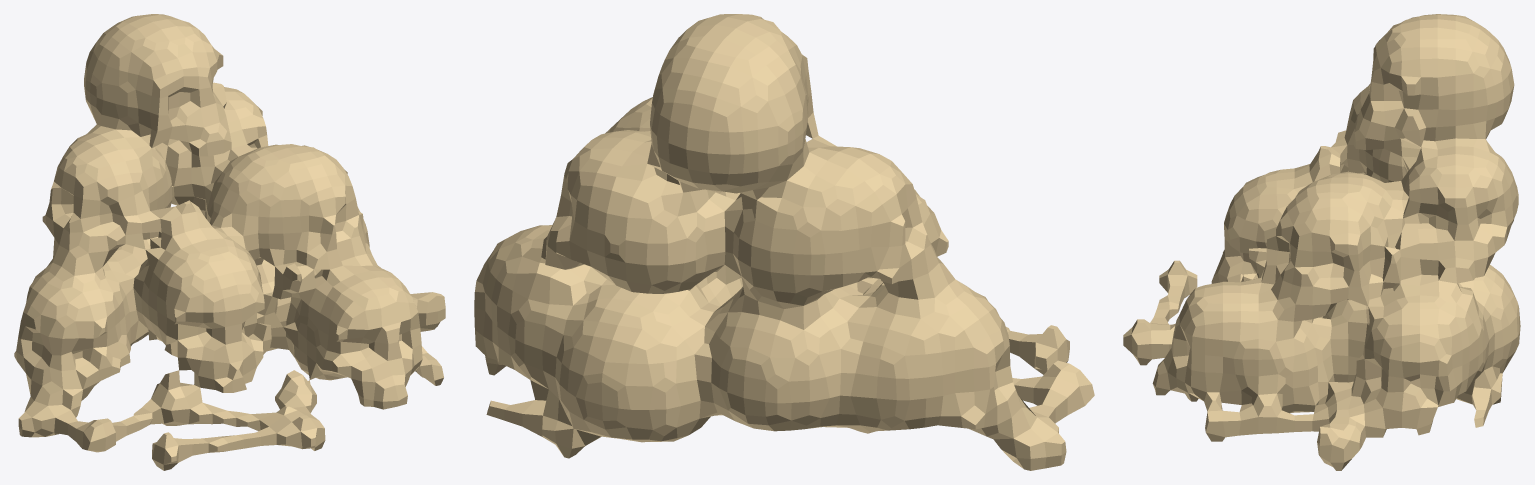
File: skull_pile.glb
3 renders of one model, left to right at view 1: azimuth 30°, elevation 25°; view 2: azimuth 150°, elevation 25°; view 3: azimuth 270°, elevation 25°, orthographic. The views are drawn at different scales.
Parts seen in each view (by area): view 1: Object.1; view 2: Object.1; view 3: Object.1.
Boxes of the visible parts, <box> form: Object.1: <box>14,14,445,470</box>; Object.1: <box>474,14,1094,470</box>; Object.1: <box>1123,14,1520,470</box>.
Bounding box in the file's own units: 178 × 131 × 140.
